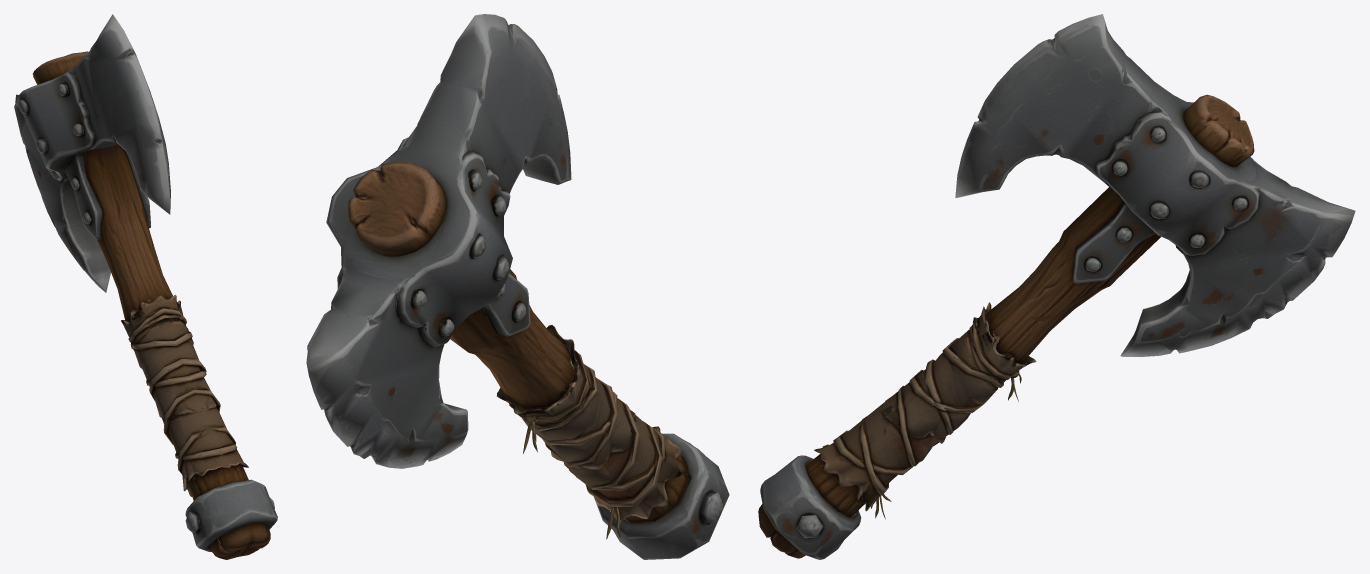
The model's file is Fantasy Double Bladed Axe.glb.
3 views of the same model, side by side, from view 1: azimuth 30°, elevation 25°; view 2: azimuth 150°, elevation 25°; view 3: azimuth 270°, elevation 25° (orthographic). The views are drawn at different scales.
Visible parts, largest first — view 1: pb_node; view 2: pb_node; view 3: pb_node.
Boxes of the visible parts, bbox=[...] form: pb_node: bbox=[14, 14, 277, 559]; pb_node: bbox=[306, 14, 729, 559]; pb_node: bbox=[758, 14, 1355, 559].
Size of the model in its own units: 0.2417 by 0.9985 by 0.9995.
Materials: 1 (1 with a texture image).
